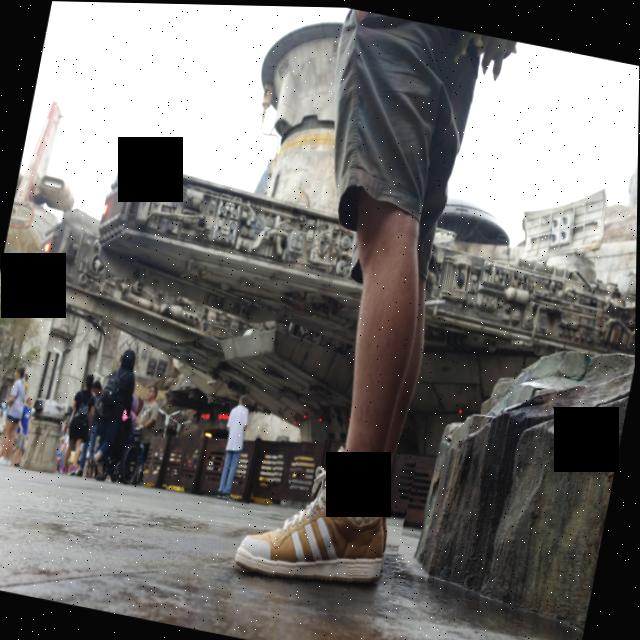shoe: (226, 424, 418, 611)
